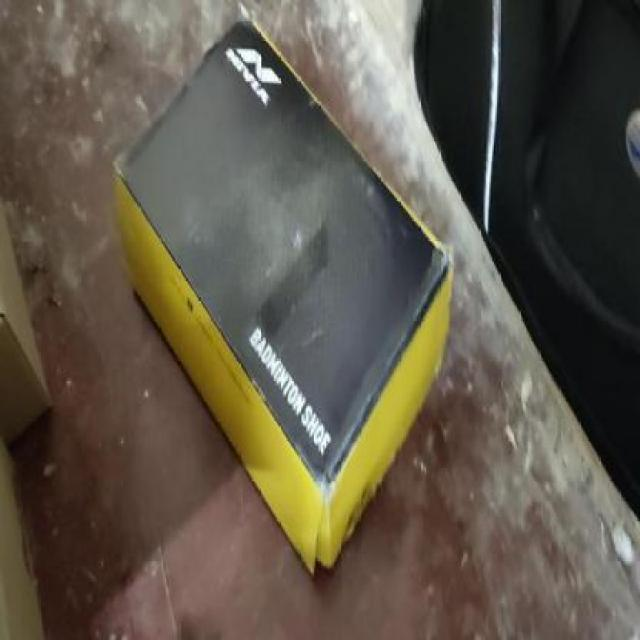box: (111, 17, 465, 570)
